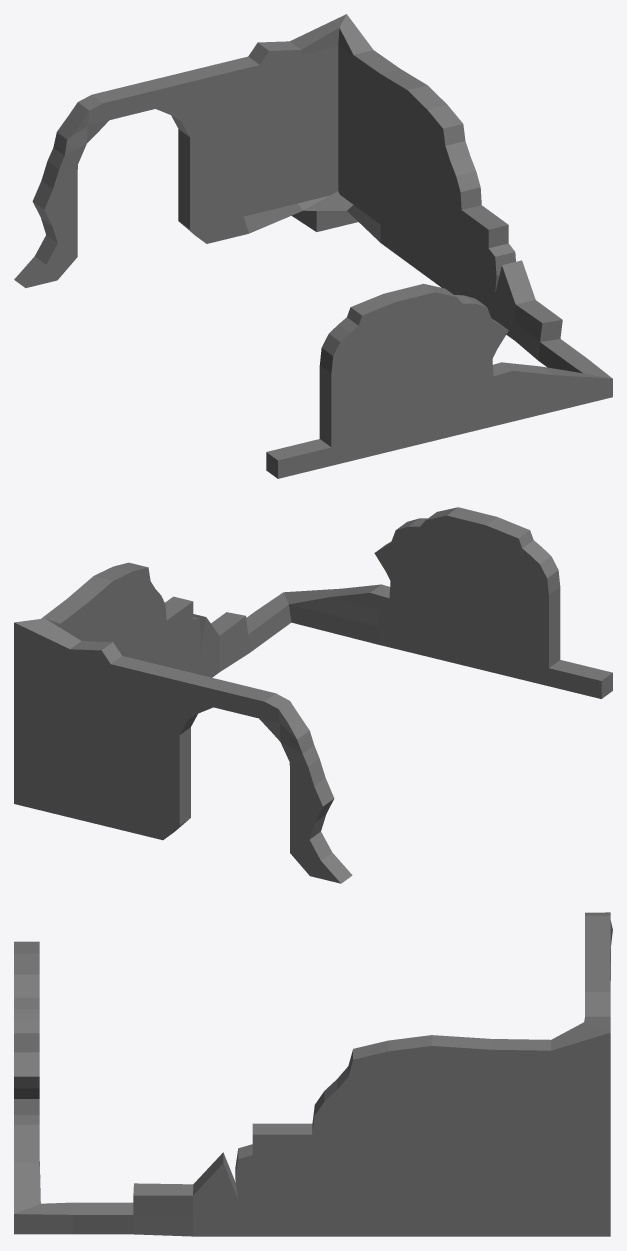
Rendered from Ruins 2.fbx.
3 renders of one model, top to bottom at view 1: azimuth 30°, elevation 25°; view 2: azimuth 150°, elevation 25°; view 3: azimuth 270°, elevation 25°, orthographic. The views are drawn at different scales.
Visible parts, largest first — view 1: Ruins 2; view 2: Ruins 2; view 3: Ruins 2.
Boxes of the visible parts, x1,y1,x2,y2 form: Ruins 2: (14,14,612,478); Ruins 2: (14,507,612,883); Ruins 2: (14,912,612,1236).
Bounding box in the file's own units: 50.45 × 26.25 × 69.9.
